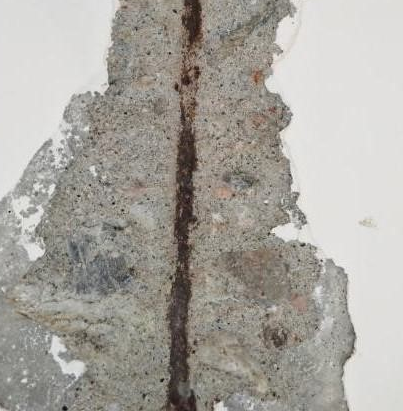Exposed reinforcement: (165, 1, 202, 411)
Spalling: (1, 1, 357, 411)
